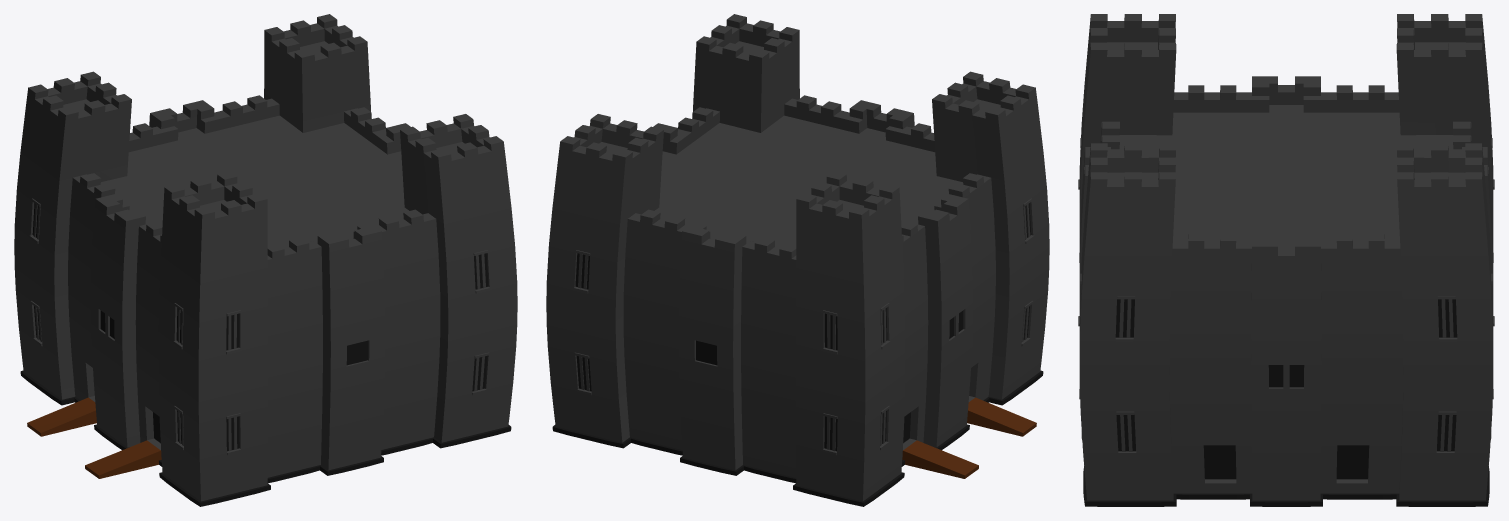
The model's file is Castle.obj.
3 views of the same model, side by side, from view 1: azimuth 30°, elevation 25°; view 2: azimuth 150°, elevation 25°; view 3: azimuth 270°, elevation 25° (orthographic). The views are drawn at different scales.
Parts seen in each view (by area): view 1: Castle:_g.001_Plane.003, Castle:_g.002_Plane.004, Castle:_g_Plane.000; view 2: Castle:_g.001_Plane.003, Castle:_g.002_Plane.004, Castle:_g_Plane.000; view 3: Castle:_g.001_Plane.003, Castle:_g.002_Plane.004.
Part boxes in pixels (x1,y1,x2,y2): Castle:_g.001_Plane.003: (14, 14, 517, 501); Castle:_g.002_Plane.004: (20, 203, 511, 506); Castle:_g_Plane.000: (27, 397, 161, 478); Castle:_g.001_Plane.003: (546, 14, 1049, 501); Castle:_g.002_Plane.004: (552, 203, 1043, 506); Castle:_g_Plane.000: (902, 397, 1036, 478); Castle:_g.001_Plane.003: (1078, 14, 1494, 500); Castle:_g.002_Plane.004: (1083, 299, 1489, 506).
Bounding box in the file's own units: 1.07 × 0.812 × 0.9431.
